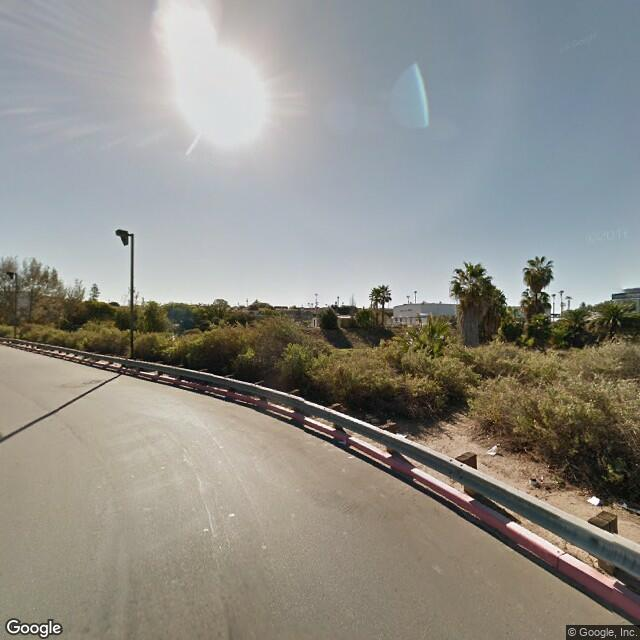litter: (394, 431, 409, 439), (588, 498, 601, 504), (488, 447, 499, 454), (528, 479, 538, 483)
